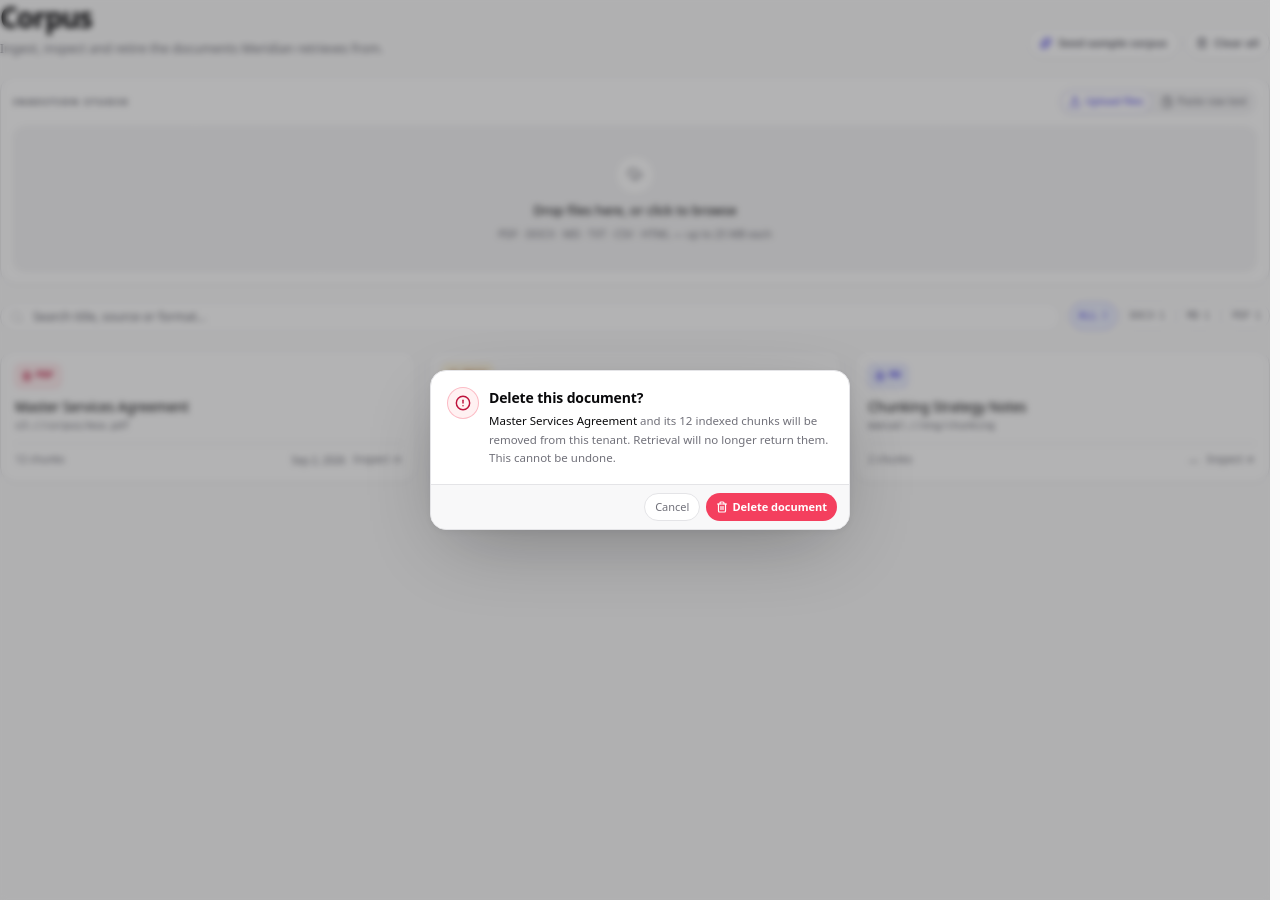
Scenario: VaultView catalog › deletes a single document only after confirmation
Earlier steps of the test are not shown.
Expected: the dialog named "Delete this document?" is shown, [430,370,850,530]
Expected: the dialog named "Delete this document?" shows "cannot be undone", [489,413,828,465]
Click the button "Delete document" at (772, 507), box [706,493,837,521]
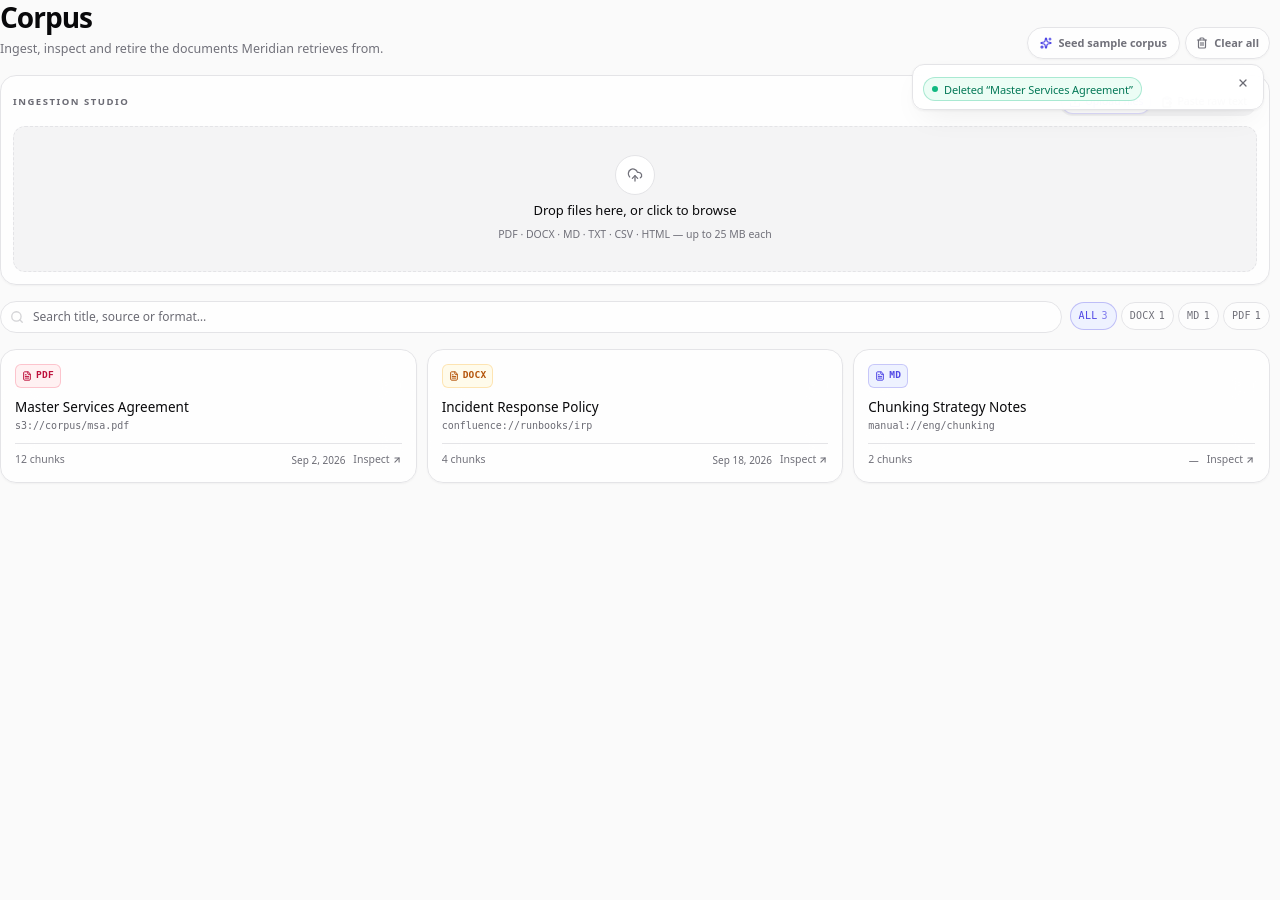
Expected: the text "Deleted “Master Services Agreement”" is shown, [944,84,1133,94]
